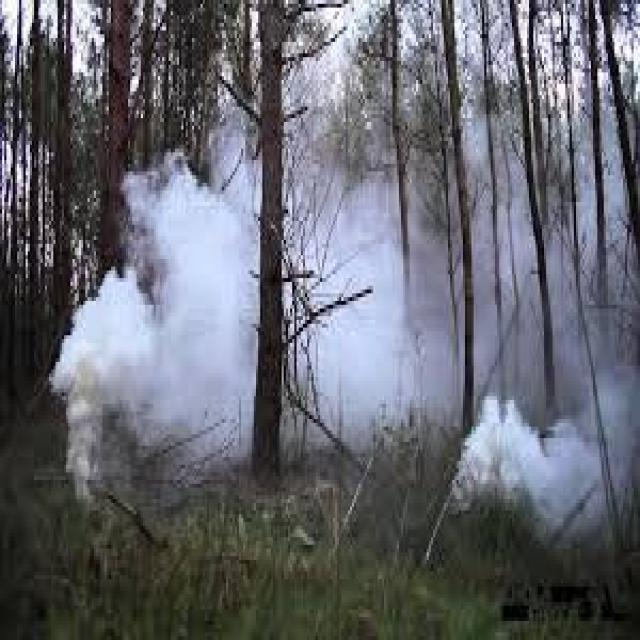Smoke: (49, 100, 640, 554)
